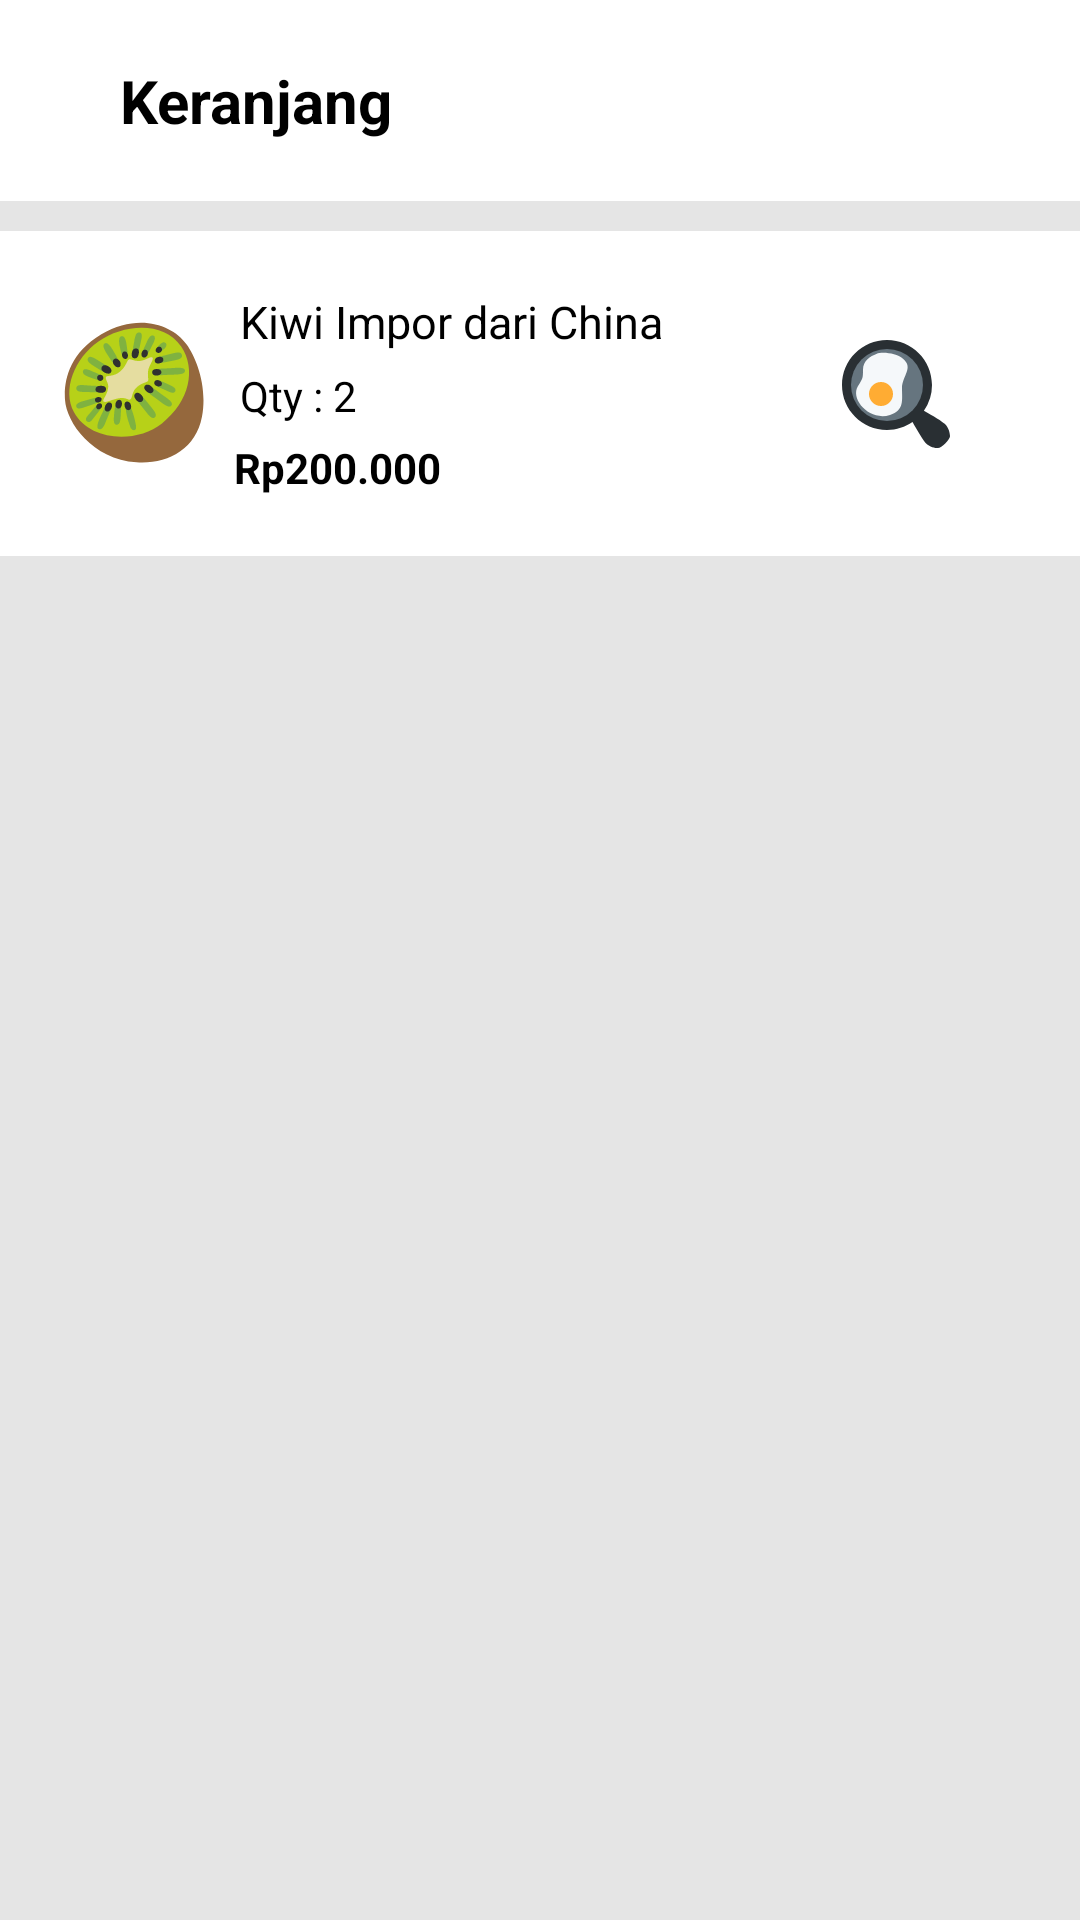

Icon click points for this 1080×1920 phone screenshot, format (x=x, y=y):
cooking: (x=896, y=394)
fruit: (x=134, y=392)
